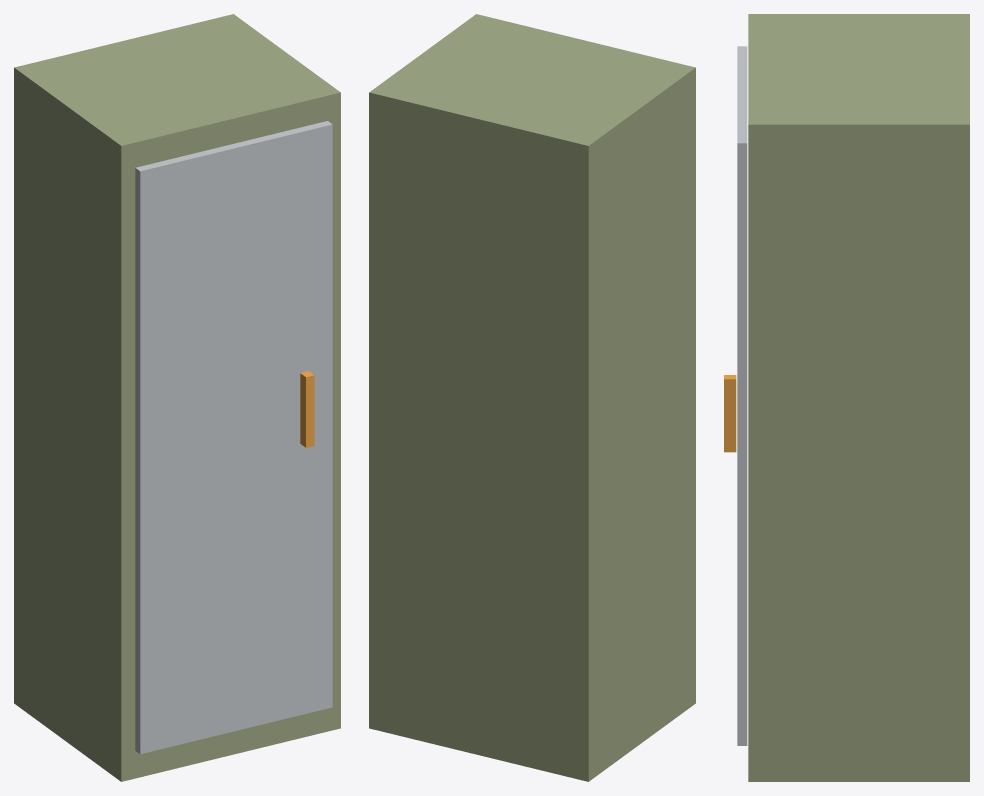
The model's file is mech-hangar-and-battle-frames-pilot-locker-af3bc37e__26991.glb.
3 views of the same model, side by side, from view 1: azimuth 30°, elevation 25°; view 2: azimuth 150°, elevation 25°; view 3: azimuth 270°, elevation 25° (orthographic). The views are drawn at different scales.
Visible parts, largest first — view 1: pilot-locker; view 2: pilot-locker; view 3: pilot-locker.
Part boxes in pixels (x1,y1,x2,y2): pilot-locker: (14, 14, 340, 781); pilot-locker: (369, 14, 695, 781); pilot-locker: (724, 14, 969, 781).
Bounding box in the file's own units: 0.65 × 1.8 × 0.61.
